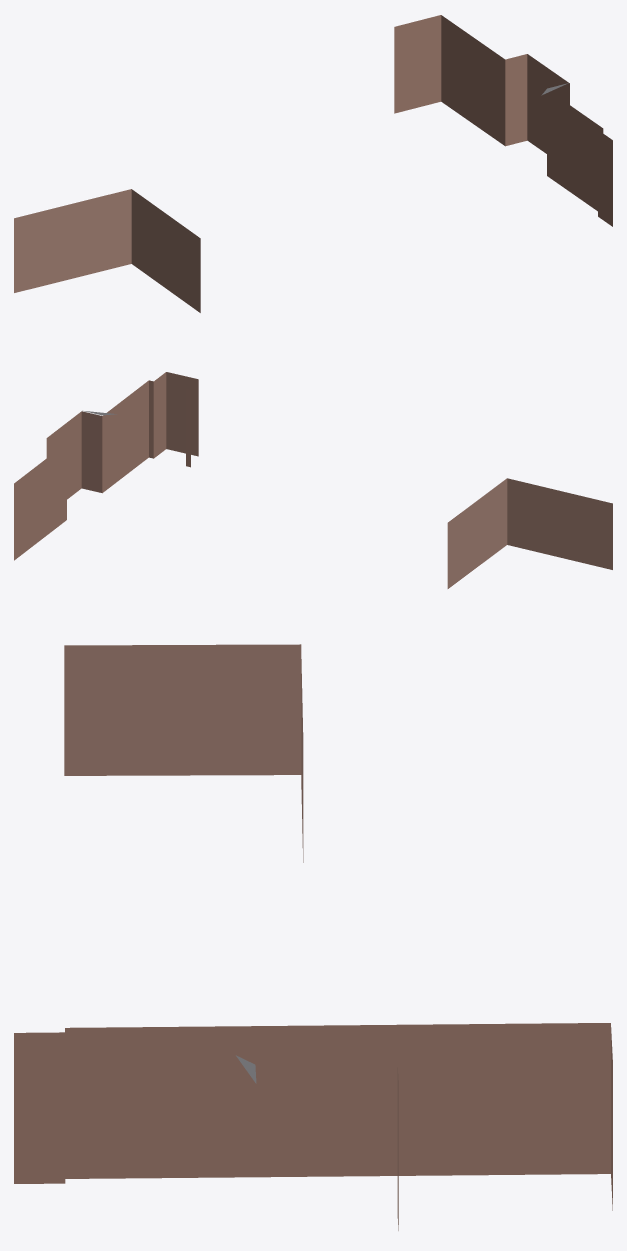
The model's file is c_1639_17833_buildings_residential.glb.
The picture shows the model from 3 angles, top to bottom: view 1: azimuth 30°, elevation 25°; view 2: azimuth 150°, elevation 25°; view 3: azimuth 270°, elevation 25°; orthographic projection. The views are drawn at different scales.
Parts seen in each view (by area): view 1: geometry_0; view 2: geometry_0; view 3: geometry_0.
Part boxes in pixels (x1,y1,x2,y2): geometry_0: (14, 15, 612, 312); geometry_0: (14, 372, 612, 588); geometry_0: (14, 644, 612, 1230).
Bounding box in the file's own units: 72.02 × 11.08 × 39.5.
